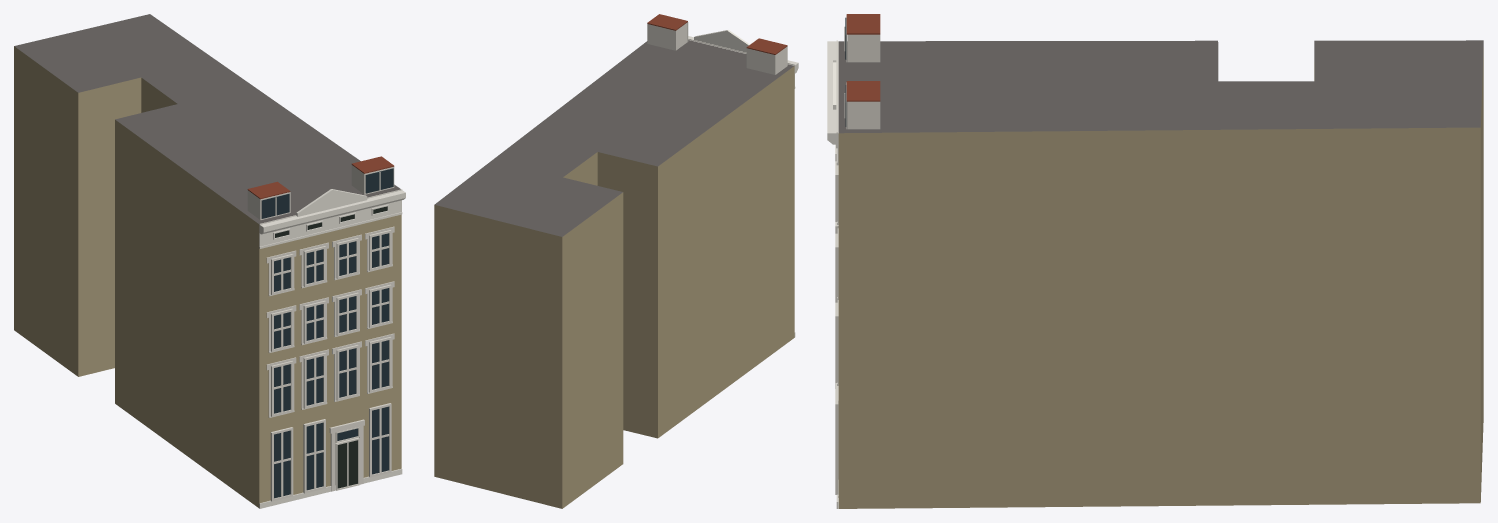
The picture shows the model from 3 angles, left to right: view 1: azimuth 30°, elevation 25°; view 2: azimuth 150°, elevation 25°; view 3: azimuth 270°, elevation 25°; orthographic projection. The views are drawn at different scales.
Visible parts, largest first — view 1: spec-0363100012167714; view 2: spec-0363100012167714; view 3: spec-0363100012167714.
Part boxes in pixels (x1=…): spec-0363100012167714: x1=14, y1=14, x2=405, y2=508; spec-0363100012167714: x1=434, y1=14, x2=798, y2=508; spec-0363100012167714: x1=827, y1=14, x2=1483, y2=508.
Bounding box in the file's own units: 8.67 × 17.7 × 25.94.
